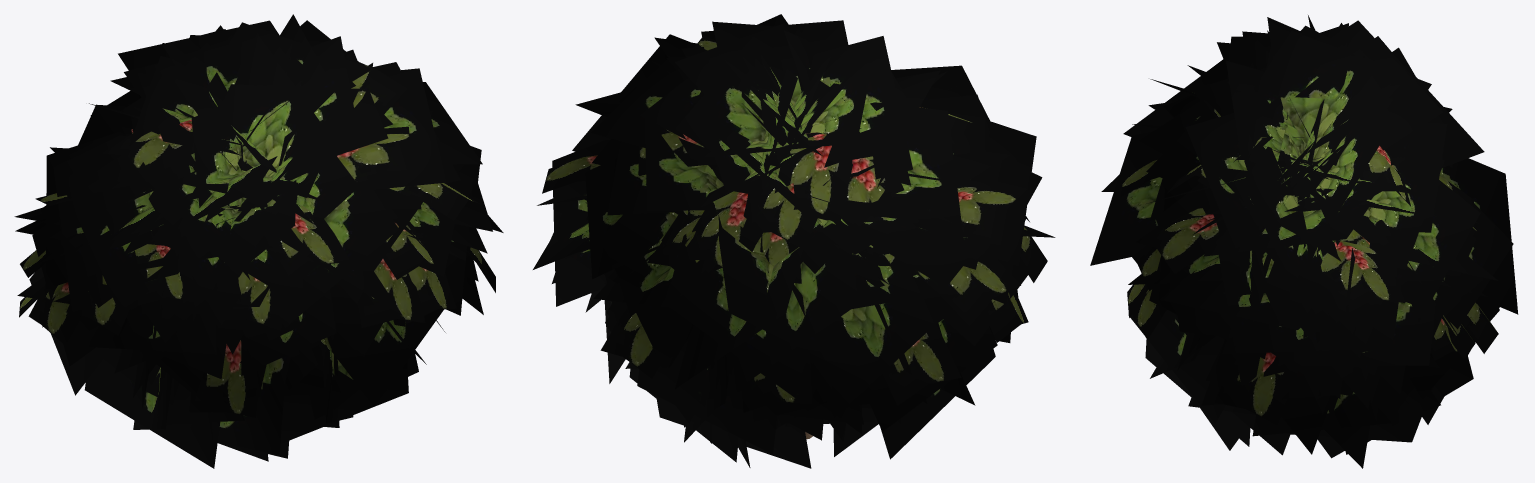
The model's file is SM_BerryBushB_0e6987.glb.
The picture shows the model from 3 angles, left to right: view 1: azimuth 30°, elevation 25°; view 2: azimuth 150°, elevation 25°; view 3: azimuth 270°, elevation 25°; orthographic projection. The views are drawn at different scales.
Bounding box in the file's own units: 1.78 × 1.54 × 1.51.
1 material, 1 textured.
